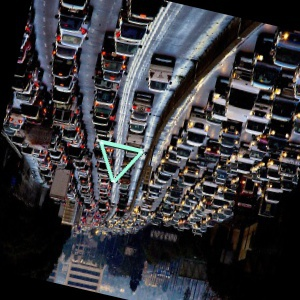triangle: (96, 137, 145, 185)
